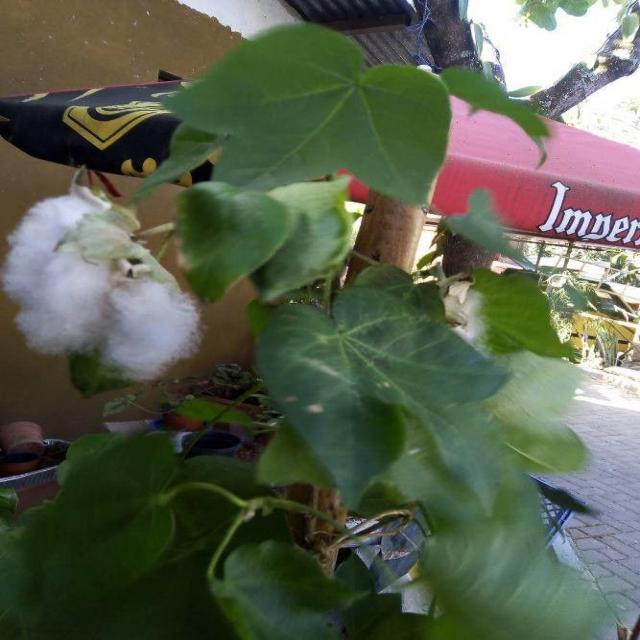Early_blight: (3, 188, 206, 383)
